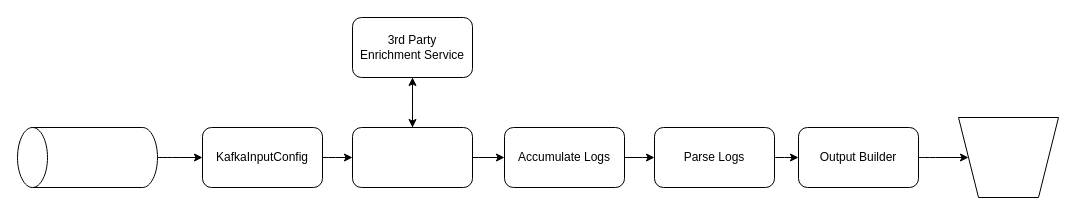
Some shapes in this 1076 by 215 pixel diagram are drawn without their labels. The shapes that lost their labels are listed below. From the top down, each one's box as (x1, y1, x2, y2) in pixels, then its label:
(16, 126, 158, 188): Redpanda
(352, 126, 472, 188): Enrichment
(958, 116, 1058, 198): File/Object Store
